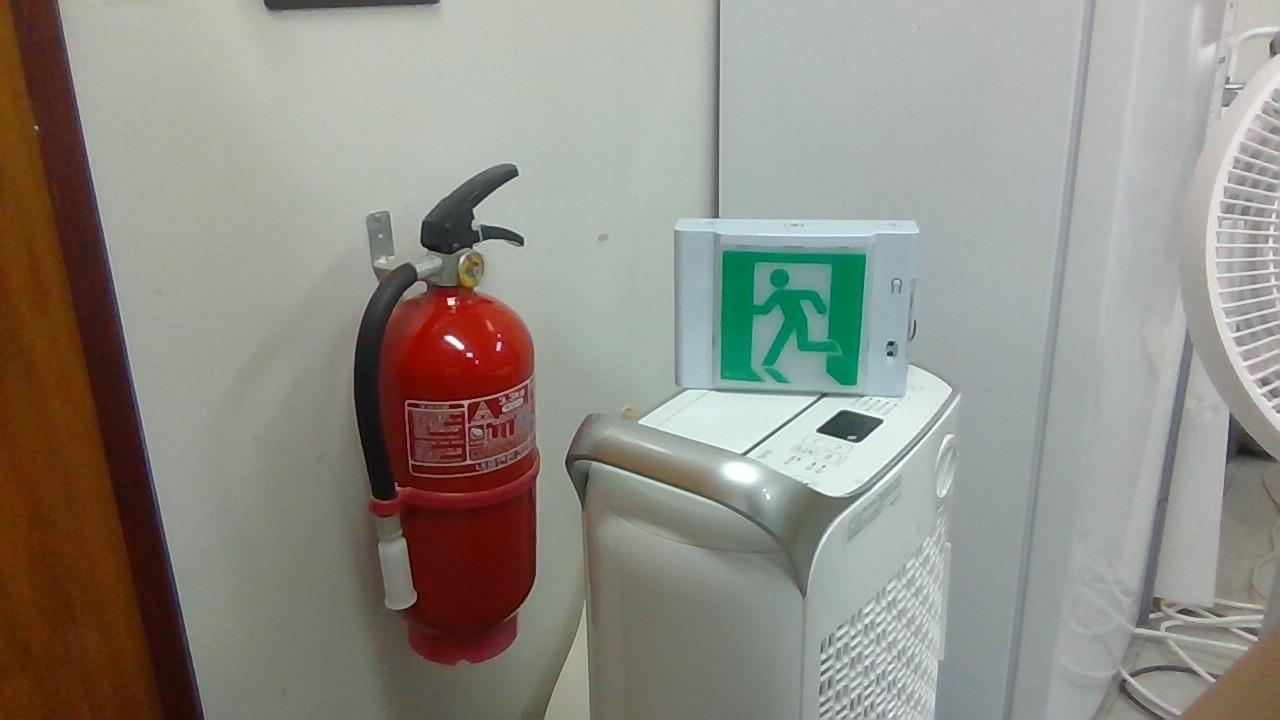emergency_exit: (672, 216, 920, 399)
